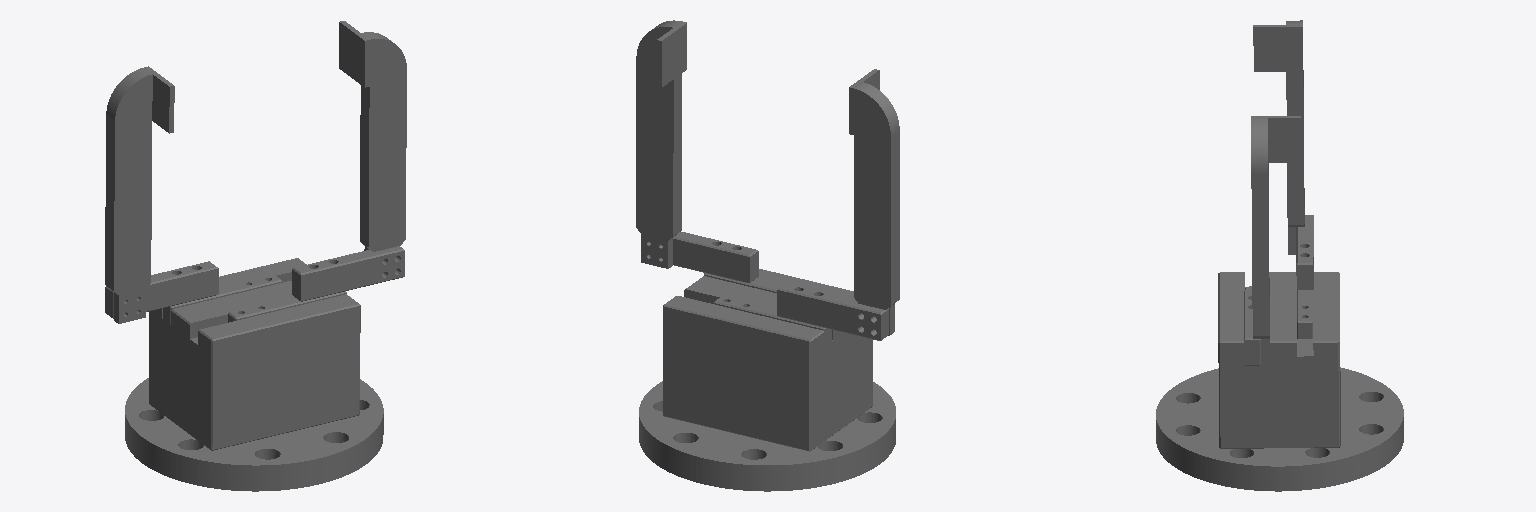
URDF robot description (custom_robots):
<?xml version="1.0" ?>
<robot name="custom_robots" version="1.0">
  <material name="black">
    <color rgba="0.0 0.0 0.0 1.0"/>
  </material>
  <material name="blue">
    <color rgba="0.0 0.0 0.8 1.0"/>
  </material>
  <material name="green">
    <color rgba="0.0 0.8 0.0 1.0"/>
  </material>
  <material name="grey_">
    <color rgba="0.2 0.2 0.2 1.0"/>
  </material>
  <material name="orange">
    <color rgba="1.0 0.423529411765 0.0392156862745 1.0"/>
  </material>
  <material name="brown">
    <color rgba="0.870588235294 0.811764705882 0.764705882353 1.0"/>
  </material>
  <material name="red">
    <color rgba="0.8 0.0 0.0 1.0"/>
  </material>
  <material name="white">
    <color rgba="1.0 1.0 1.0 1.0"/>
  </material>
  <material name="metal">
    <color rgba="0.76862745098 0.749019607843 0.729411764706 1.0"/>
  </material>
  <material name="metal_grey">
    <color rgba="0.501960784314 0.501960784314 0.501960784314 1.0"/>
  </material>
  <material name="metal_white">
    <color rgba="0.866666666667 0.866666666667 0.890196078431 1.0"/>
  </material>
  <link name="base_link"/>
  <joint name="indy0_joint_base_link" type="fixed">
    <origin rpy="-0.00313377464597 0.00761310704768 -1.57110754938" xyz="-0.487280011177 0.264443635941 0.0157945752144"/>
    <parent link="base_link"/>
    <child link="indy0_link0"/>
  </joint>
  <link name="indy0_link0">
    <inertial>
      <origin rpy="0.0 0.0 0.0" xyz="0.0 0.0 0.0"/>
      <mass value="1.59306955"/>
      <inertia ixx="0.00572623" ixy="2.51e-06" ixz="-0.0001138" iyy="0.00558959" iyz="-1.4e-07" izz="0.00966674"/>
    </inertial>
    <visual>
      <origin rpy="0.0 0.0 0.0" xyz="0.0 0.0 0.0"/>
      <geometry>
        <mesh filename="package://indy7_description/meshes/stl/Indy7_0.stl"/>
      </geometry>
      <material name="metal_grey"/>
    </visual>
    <collision>
      <origin rpy="-0.0 1.57079633 0.0" xyz="-0.1 0.0 0.03"/>
      <geometry>
        <cylinder length="0.2" radius="0.05"/>
      </geometry>
    </collision>
  </link>
  <link name="indy0_link1">
    <inertial>
      <origin rpy="0.0 0.0 0.0" xyz="0.0 0.0 0.0"/>
      <mass value="11.8030102"/>
      <inertia ixx="0.15418559" ixy="-2.35e-06" ixz="1.739e-05" iyy="0.12937017" iyz="-0.04854267" izz="0.05964415"/>
    </inertial>
    <visual>
      <origin rpy="0.0 0.0 0.0" xyz="0.0 0.0 0.0"/>
      <geometry>
        <mesh filename="package://indy7_description/meshes/stl/Indy7_1.stl"/>
      </geometry>
      <material name="metal_grey"/>
    </visual>
    <collision>
      <origin rpy="0.0 0.0 0.0" xyz="0.0 0.0 0.072"/>
      <geometry>
        <cylinder length="0.3" radius="0.1"/>
      </geometry>
    </collision>
  </link>
  <link name="indy0_link2">
    <inertial>
      <origin rpy="0.0 0.0 0.0" xyz="0.0 0.0 0.0"/>
      <mass value="7.99292141"/>
      <inertia ixx="0.2935698" ixy="-4e-07" ixz="1.441e-05" iyy="0.28094142" iyz="0.03727972" izz="0.03620609"/>
    </inertial>
    <visual>
      <origin rpy="0.0 0.0 0.0" xyz="0.0 0.0 0.0"/>
      <geometry>
        <mesh filename="package://indy7_description/meshes/stl/Indy7_2.stl"/>
      </geometry>
      <material name="metal_grey"/>
    </visual>
    <collision>
      <origin rpy="1.57079632679 0.0 -1.57079632679" xyz="-0.225 0.0 0.09"/>
      <geometry>
        <cylinder length="0.45" radius="0.073"/>
      </geometry>
    </collision>
    <collision>
      <origin rpy="0.0 0.0 0.0" xyz="0.0 0.0 -0.01"/>
      <geometry>
        <cylinder length="0.2" radius="0.085"/>
      </geometry>
    </collision>
  </link>
  <link name="indy0_link3">
    <inertial>
      <origin rpy="0.0 0.0 0.0" xyz="0.0 0.0 0.0"/>
      <mass value="2.99134127"/>
      <inertia ixx="0.03424593" ixy="1.49e-06" ixz="7.24e-06" iyy="0.03406024" iyz="0.00186009" izz="0.00450477"/>
    </inertial>
    <visual>
      <origin rpy="0.0 0.0 0.0" xyz="0.0 0.0 0.0"/>
      <geometry>
        <mesh filename="package://indy7_description/meshes/stl/Indy7_3.stl"/>
      </geometry>
      <material name="metal_grey"/>
    </visual>
    <collision>
      <origin rpy="0.0 0.0 0.0" xyz="0.0 0.0 0.03"/>
      <geometry>
        <cylinder length="0.2" radius="0.065"/>
      </geometry>
    </collision>
  </link>
  <link name="indy0_link4">
    <inertial>
      <origin rpy="0.0 0.0 0.0" xyz="0.0 0.0 0.0"/>
      <mass value="2.12317035"/>
      <inertia ixx="0.00670405" ixy="3.75e-06" ixz="1.5e-06" iyy="0.00279246" iyz="-0.00127967" izz="0.00619341"/>
    </inertial>
    <visual>
      <origin rpy="0.0 0.0 0.0" xyz="0.0 0.0 0.0"/>
      <geometry>
        <mesh filename="package://indy7_description/meshes/stl/Indy7_4.stl"/>
      </geometry>
      <material name="metal_grey"/>
    </visual>
    <collision>
      <origin rpy="0.0 0.0 0.0" xyz="0.0 0.0 -0.092"/>
      <geometry>
        <cylinder length="0.35" radius="0.06"/>
      </geometry>
    </collision>
  </link>
  <link name="indy0_link5">
    <inertial>
      <origin rpy="0.0 0.0 0.0" xyz="0.0 0.0 0.0"/>
      <mass value="2.28865091"/>
      <inertia ixx="0.00994891" ixy="1.4e-07" ixz="3.21e-06" iyy="0.00978189" iyz="-0.00093546" izz="0.00271492"/>
    </inertial>
    <visual>
      <origin rpy="0.0 0.0 0.0" xyz="0.0 0.0 0.0"/>
      <geometry>
        <mesh filename="package://indy7_description/meshes/stl/Indy7_5.stl"/>
      </geometry>
      <material name="metal_grey"/>
    </visual>
    <collision>
      <origin rpy="0.0 0.0 0.0" xyz="-0.0 0.0 -0.0225"/>
      <geometry>
        <cylinder length="0.183" radius="0.055"/>
      </geometry>
    </collision>
  </link>
  <link name="indy0_link6">
    <inertial>
      <origin rpy="0.0 0.0 0.0" xyz="0.0 0.0 0.0"/>
      <mass value="0.40083918"/>
      <inertia ixx="0.00043534" ixy="1.3e-07" ixz="-2e-08" iyy="0.00044549" iyz="5.1e-07" izz="0.00059634"/>
    </inertial>
    <visual>
      <origin rpy="0.0 0.0 0.0" xyz="0.0 0.0 0.0"/>
      <geometry>
        <mesh filename="package://indy7_description/meshes/stl/Indy7_6.stl"/>
      </geometry>
      <material name="metal_grey"/>
    </visual>
    <collision>
      <origin rpy="0.0 0.0 0.0" xyz="0.0 0.0 -0.038"/>
      <geometry>
        <cylinder length="0.25" radius="0.06"/>
      </geometry>
    </collision>
  </link>
  <link name="indy0_tcp">
    <visual>
      <origin rpy="0.0 0.0 1.570796" xyz="0.0 0.0 0.0"/>
      <geometry>
        <mesh filename="package://my_mesh/meshes/stl/indy_gripper_asm2_res.STL"/>
      </geometry>
      <material name="metal_grey"/>
    </visual>
    <collision>
      <origin rpy="0.0 0.0 0.0" xyz="0.006 0.045 0.1"/>
      <geometry>
        <cylinder length="0.083" radius="0.015"/>
      </geometry>
    </collision>
    <collision>
      <origin rpy="0.0 0.0 0.0" xyz="-0.006 0.045 0.1"/>
      <geometry>
        <cylinder length="0.083" radius="0.015"/>
      </geometry>
    </collision>
    <collision>
      <origin rpy="0.0 0.0 0.0" xyz="0.006 -0.045 0.1"/>
      <geometry>
        <cylinder length="0.083" radius="0.015"/>
      </geometry>
    </collision>
    <collision>
      <origin rpy="0.0 0.0 0.0" xyz="-0.006 -0.045 0.1"/>
      <geometry>
        <cylinder length="0.083" radius="0.015"/>
      </geometry>
    </collision>
  </link>
  <joint name="indy0_joint0" type="revolute">
    <origin rpy="0.0 0.0 0.0" xyz="0.0 0.0 0.0775"/>
    <axis xyz="0.0 0.0 1.0"/>
    <parent link="indy0_link0"/>
    <child link="indy0_link1"/>
    <limit effort="3.141592653589793" lower="-3.05432619099" upper="3.05432619099" velocity="0.6544984694978736"/>
  </joint>
  <joint name="indy0_joint1" type="revolute">
    <origin rpy="1.57079632679 1.57079632679 0.0" xyz="0.0 -0.109 0.222"/>
    <axis xyz="0.0 0.0 1.0"/>
    <parent link="indy0_link1"/>
    <child link="indy0_link2"/>
    <limit effort="3.141592653589793" lower="-3.05432619099" upper="3.05432619099" velocity="0.6544984694978736"/>
  </joint>
  <joint name="indy0_joint2" type="revolute">
    <origin rpy="0.0 0.0 0.0" xyz="-0.45 0.0 -0.0305"/>
    <axis xyz="0.0 0.0 1.0"/>
    <parent link="indy0_link2"/>
    <child link="indy0_link3"/>
    <limit effort="3.141592653589793" lower="-3.05432619099" upper="3.05432619099" velocity="0.6544984694978736"/>
  </joint>
  <joint name="indy0_joint3" type="revolute">
    <origin rpy="-1.57079632679 0.0 1.57079632679" xyz="-0.267 0.0 -0.075"/>
    <axis xyz="0.0 0.0 1.0"/>
    <parent link="indy0_link3"/>
    <child link="indy0_link4"/>
    <limit effort="3.141592653589793" lower="-3.05432619099" upper="3.05432619099" velocity="0.7853981633974483"/>
  </joint>
  <joint name="indy0_joint4" type="revolute">
    <origin rpy="1.57079632679 1.57079632679 0.0" xyz="0.0 -0.114 0.083"/>
    <axis xyz="0.0 0.0 1.0"/>
    <parent link="indy0_link4"/>
    <child link="indy0_link5"/>
    <limit effort="3.141592653589793" lower="-3.05432619099" upper="3.05432619099" velocity="0.7853981633974483"/>
  </joint>
  <joint name="indy0_joint5" type="revolute">
    <origin rpy="-1.57079632679 0.0 1.57079632679" xyz="-0.168 0.0 0.069"/>
    <axis xyz="0.0 0.0 1.0"/>
    <parent link="indy0_link5"/>
    <child link="indy0_link6"/>
    <limit effort="3.141592653589793" lower="-3.75245789179" upper="3.75245789179" velocity="0.7853981633974483"/>
  </joint>
  <joint name="indy0_tcp" type="fixed">
    <origin rpy="0.0 0.0 0.0" xyz="0.0 0.0 0.06"/>
    <parent link="indy0_link6"/>
    <child link="indy0_tcp"/>
  </joint>
  <transmission name="indy0_tran0">
    <type>transmission_interface/SimpleTransmission</type>
    <joint name="indy0_joint0">
      <hardwareInterface>PositionJointInterface</hardwareInterface>
    </joint>
    <actuator name="indy0_motor0">
      <mechanicalReduction>1.0</mechanicalReduction>
    </actuator>
  </transmission>
  <transmission name="indy0_tran1">
    <type>transmission_interface/SimpleTransmission</type>
    <joint name="indy0_joint1">
      <hardwareInterface>PositionJointInterface</hardwareInterface>
    </joint>
    <actuator name="indy0_motor1">
      <mechanicalReduction>1.0</mechanicalReduction>
    </actuator>
  </transmission>
  <transmission name="indy0_tran2">
    <type>transmission_interface/SimpleTransmission</type>
    <joint name="indy0_joint2">
      <hardwareInterface>PositionJointInterface</hardwareInterface>
    </joint>
    <actuator name="indy0_motor2">
      <mechanicalReduction>1.0</mechanicalReduction>
    </actuator>
  </transmission>
  <transmission name="indy0_tran3">
    <type>transmission_interface/SimpleTransmission</type>
    <joint name="indy0_joint3">
      <hardwareInterface>PositionJointInterface</hardwareInterface>
    </joint>
    <actuator name="indy0_motor3">
      <mechanicalReduction>1.0</mechanicalReduction>
    </actuator>
  </transmission>
  <transmission name="indy0_tran4">
    <type>transmission_interface/SimpleTransmission</type>
    <joint name="indy0_joint4">
      <hardwareInterface>PositionJointInterface</hardwareInterface>
    </joint>
    <actuator name="indy0_motor4">
      <mechanicalReduction>1.0</mechanicalReduction>
    </actuator>
  </transmission>
  <transmission name="indy0_tran5">
    <type>transmission_interface/SimpleTransmission</type>
    <joint name="indy0_joint5">
      <hardwareInterface>PositionJointInterface</hardwareInterface>
    </joint>
    <actuator name="indy0_motor5">
      <mechanicalReduction>1.0</mechanicalReduction>
    </actuator>
  </transmission>
  <joint name="panda1_joint_base_link" type="fixed">
    <origin rpy="-0.00103220634817 0.0028170982324 -1.59090047908" xyz="0.47326874733 0.192965149879 0.0181476473808"/>
    <parent link="base_link"/>
    <child link="panda1_link0"/>
  </joint>
  <link name="panda1_link0">
    <visual>
      <geometry>
        <mesh filename="package://franka_description/meshes/visual/link0.dae"/>
      </geometry>
    </visual>
    <collision>
      <origin rpy="3.14159265 -1.37340077 3.14159265" xyz="-0.03 0.0 0.03"/>
      <geometry>
        <cylinder length="0.102" radius="0.1"/>
      </geometry>
    </collision>
    <collision>
      <origin rpy="1.57079633 0.0 0.0" xyz="-0.05 0.0 0.03"/>
      <geometry>
        <cylinder length="0.3" radius="0.05"/>
      </geometry>
    </collision>
  </link>
  <link name="panda1_link1">
    <visual>
      <geometry>
        <mesh filename="package://franka_description/meshes/visual/link1.dae"/>
      </geometry>
    </visual>
    <collision>
      <origin rpy="-2.71183037 0.0 0.0" xyz="0.0 -0.0275 -0.075"/>
      <geometry>
        <cylinder length="0.132" radius="0.11"/>
      </geometry>
    </collision>
  </link>
  <joint name="panda1_joint1" type="revolute">
    <origin rpy="0.0 0.0 0.0" xyz="0.0 0.0 0.333"/>
    <axis xyz="0.0 0.0 1.0"/>
    <parent link="panda1_link0"/>
    <child link="panda1_link1"/>
    <limit effort="3.141592653589793" lower="-2.75" upper="2.75" velocity="0.6544984694978736"/>
    <safety_controller k_position="100.0" k_velocity="40.0" soft_lower_limit="-2.8973" soft_upper_limit="2.8973"/>
  </joint>
  <link name="panda1_link2">
    <visual>
      <geometry>
        <mesh filename="package://franka_description/meshes/visual/link2.dae"/>
      </geometry>
    </visual>
    <collision>
      <origin rpy="1.98320677 -0.0 0.0" xyz="0.0 -0.08 0.035"/>
      <geometry>
        <cylinder length="0.175" radius="0.09"/>
      </geometry>
    </collision>
  </link>
  <joint name="panda1_joint2" type="revolute">
    <origin rpy="-1.57079632679 0.0 0.0" xyz="0.0 0.0 0.0"/>
    <axis xyz="0.0 0.0 1.0"/>
    <parent link="panda1_link1"/>
    <child link="panda1_link2"/>
    <limit effort="3.141592653589793" lower="-1.7" upper="1.7" velocity="0.6544984694978736"/>
    <safety_controller k_position="100.0" k_velocity="40.0" soft_lower_limit="-1.7628" soft_upper_limit="1.7628"/>
  </joint>
  <link name="panda1_link3">
    <visual>
      <geometry>
        <mesh filename="package://franka_description/meshes/visual/link3.dae"/>
      </geometry>
    </visual>
    <collision>
      <origin rpy="2.48451772 -0.7355124 -1.69290814" xyz="0.04 0.027 -0.035"/>
      <geometry>
        <cylinder length="0.12" radius="0.09"/>
      </geometry>
    </collision>
  </link>
  <joint name="panda1_joint3" type="revolute">
    <origin rpy="1.57079632679 0.0 0.0" xyz="0.0 -0.316 0.0"/>
    <axis xyz="0.0 0.0 1.0"/>
    <parent link="panda1_link2"/>
    <child link="panda1_link3"/>
    <limit effort="3.141592653589793" lower="-2.75" upper="2.75" velocity="0.6544984694978736"/>
    <safety_controller k_position="100.0" k_velocity="40.0" soft_lower_limit="-2.8973" soft_upper_limit="2.8973"/>
  </joint>
  <link name="panda1_link4">
    <visual>
      <geometry>
        <mesh filename="package://franka_description/meshes/visual/link4.dae"/>
      </geometry>
    </visual>
    <collision>
      <origin rpy="-2.0064792 -0.71456939 1.05945848" xyz="-0.0555 0.058 0.027"/>
      <geometry>
        <cylinder length="0.17" radius="0.08"/>
      </geometry>
    </collision>
  </link>
  <joint name="panda1_joint4" type="revolute">
    <origin rpy="1.57079632679 0.0 0.0" xyz="0.0825 0.0 0.0"/>
    <axis xyz="0.0 0.0 1.0"/>
    <parent link="panda1_link3"/>
    <child link="panda1_link4"/>
    <limit effort="3.141592653589793" lower="-2.9" upper="-0.1" velocity="0.6544984694978736"/>
    <safety_controller k_position="100.0" k_velocity="40.0" soft_lower_limit="-3.0718" soft_upper_limit="-0.0698"/>
  </joint>
  <link name="panda1_link5">
    <visual>
      <geometry>
        <mesh filename="package://franka_description/meshes/visual/link5.dae"/>
      </geometry>
    </visual>
    <collision>
      <origin rpy="2.87423726 -0.0 0.0" xyz="0.0 0.0315 -0.115"/>
      <geometry>
        <cylinder length="0.2" radius="0.08"/>
      </geometry>
    </collision>
    <collision>
      <origin rpy="0.0 1.57079633 1.57079633" xyz="0.0 0.0315 0.0"/>
      <geometry>
        <cylinder length="0.12" radius="0.06"/>
      </geometry>
    </collision>
  </link>
  <joint name="panda1_joint5" type="revolute">
    <origin rpy="-1.57079632679 0.0 0.0" xyz="-0.0825 0.384 0.0"/>
    <axis xyz="0.0 0.0 1.0"/>
    <parent link="panda1_link4"/>
    <child link="panda1_link5"/>
    <limit effort="3.141592653589793" lower="-2.75" upper="2.75" velocity="0.7853981633974483"/>
    <safety_controller k_position="100.0" k_velocity="40.0" soft_lower_limit="-2.8973" soft_upper_limit="2.8973"/>
  </joint>
  <link name="panda1_link6">
    <visual>
      <geometry>
        <mesh filename="package://franka_description/meshes/visual/link6.dae"/>
      </geometry>
    </visual>
    <collision>
      <origin rpy="-0.0 -1.57079633 0.0" xyz="0.035 0.0 0.0"/>
      <geometry>
        <cylinder length="0.09" radius="0.065"/>
      </geometry>
    </collision>
    <collision>
      <origin rpy="1.57079633 0.0 0.0" xyz="0.09 -0.01 0.0"/>
      <geometry>
        <cylinder length="0.13" radius="0.05"/>
      </geometry>
    </collision>
    <collision>
      <origin rpy="0.2 1.57079633 0.0" xyz="0.085 0.05 0.0"/>
      <geometry>
        <cylinder length="0.08" radius="0.04"/>
      </geometry>
    </collision>
  </link>
  <joint name="panda1_joint6" type="revolute">
    <origin rpy="1.57079632679 0.0 0.0" xyz="0.0 0.0 0.0"/>
    <axis xyz="0.0 0.0 1.0"/>
    <parent link="panda1_link5"/>
    <child link="panda1_link6"/>
    <limit effort="3.141592653589793" lower="0.1" upper="3.6" velocity="0.7853981633974483"/>
    <safety_controller k_position="100.0" k_velocity="40.0" soft_lower_limit="-0.0175" soft_upper_limit="3.7525"/>
  </joint>
  <link name="panda1_link7">
    <visual>
      <geometry>
        <mesh filename="package://franka_description/meshes/visual/link7.dae"/>
      </geometry>
    </visual>
  </link>
  <joint name="panda1_joint7" type="revolute">
    <origin rpy="1.57079632679 0.0 0.0" xyz="0.088 0.0 0.0"/>
    <axis xyz="0.0 0.0 1.0"/>
    <parent link="panda1_link6"/>
    <child link="panda1_link7"/>
    <limit effort="3.141592653589793" lower="-2.75" upper="2.75" velocity="0.7853981633974483"/>
    <safety_controller k_position="100.0" k_velocity="40.0" soft_lower_limit="-2.8973" soft_upper_limit="2.8973"/>
  </joint>
  <link name="panda1_link8"/>
  <joint name="panda1_joint8" type="fixed">
    <origin rpy="0.0 0.0 0.0" xyz="0.0 0.0 0.107"/>
    <axis xyz="0.0 0.0 0.0"/>
    <parent link="panda1_link7"/>
    <child link="panda1_link8"/>
  </joint>
  <joint name="panda1_hand_joint" type="fixed">
    <origin rpy="0.0 0.0 -0.785398163397" xyz="0.0 0.0 0.0"/>
    <parent link="panda1_link8"/>
    <child link="panda1_hand"/>
  </joint>
  <link name="panda1_hand">
    <visual>
      <geometry>
        <mesh filename="package://franka_description/meshes/visual/hand.dae"/>
      </geometry>
    </visual>
    <collision>
      <origin rpy="1.57079633 0.0 0.0" xyz="0.0 0.0 0.03"/>
      <geometry>
        <cylinder length="0.16" radius="0.045"/>
      </geometry>
    </collision>
    <collision>
      <origin rpy="0.0 1.57079633 0.0" xyz="0.0 0.07 -0.02"/>
      <geometry>
        <cylinder length="0.055" radius="0.02"/>
      </geometry>
    </collision>
    <collision>
      <origin rpy="1.57079633 0.0 0.0" xyz="0.0 -0.07 -0.02"/>
      <geometry>
        <cylinder length="0.05" radius="0.01"/>
      </geometry>
    </collision>
  </link>
  <link name="panda1_leftfinger">
    <visual>
      <geometry>
        <mesh filename="package://franka_description/meshes/visual/finger.dae"/>
      </geometry>
    </visual>
    <collision>
      <origin rpy="-2.73268482 0.0 0.0" xyz="0.0 0.0135 0.035"/>
      <geometry>
        <cylinder length="0.0325" radius="0.018"/>
      </geometry>
    </collision>
  </link>
  <link name="panda1_rightfinger">
    <visual>
      <origin rpy="0.0 0.0 3.14159265359" xyz="0.0 0.0 0.0"/>
      <geometry>
        <mesh filename="package://franka_description/meshes/visual/finger.dae"/>
      </geometry>
    </visual>
    <collision>
      <origin rpy="-2.73268482 0.0 -3.14159265" xyz="0.0 -0.0135 0.035"/>
      <geometry>
        <cylinder length="0.0325" radius="0.018"/>
      </geometry>
    </collision>
  </link>
  <joint name="panda1_finger_joint1" type="fixed">
    <origin rpy="0.0 0.0 0.0" xyz="0.0 0.04 0.0584"/>
    <parent link="panda1_hand"/>
    <child link="panda1_leftfinger"/>
  </joint>
  <joint name="panda1_finger_joint2" type="fixed">
    <origin rpy="0.0 0.0 0.0" xyz="0.0 -0.04 0.0584"/>
    <parent link="panda1_hand"/>
    <child link="panda1_rightfinger"/>
    <mimic joint="panda1_finger_joint1"/>
  </joint>
</robot>

--- Facts derived from the render (not from the file) ---
The picture shows the robot from 3 angles, left to right: view 1: azimuth 30°, elevation 25°; view 2: azimuth 150°, elevation 25°; view 3: azimuth 270°, elevation 25°; orthographic projection.
Robot: custom_robots — 21 links, 20 joints (13 revolute, 7 fixed); root link base_link; default pose: all joints at 0 but 2 set to mid-range because 0 is outside their limits (panda1_joint4 = -1.5, panda1_joint6 = 1.85).
Visible links, largest first — view 1: indy0_tcp; view 2: indy0_tcp; view 3: indy0_tcp.
Link boxes in pixels (x1,y1,x2,y2): indy0_tcp: (105,21,406,491); indy0_tcp: (636,20,899,491); indy0_tcp: (1156,20,1403,491).
Bounding box of the posed robot: 0.1102 × 0.0901 × 0.1478 m (x, y, z).
Meshes: 18 distinct files referenced, 1 mesh visuals loaded (1 binary STL); not drawn: 18 (reference not matched to a file when rendering).